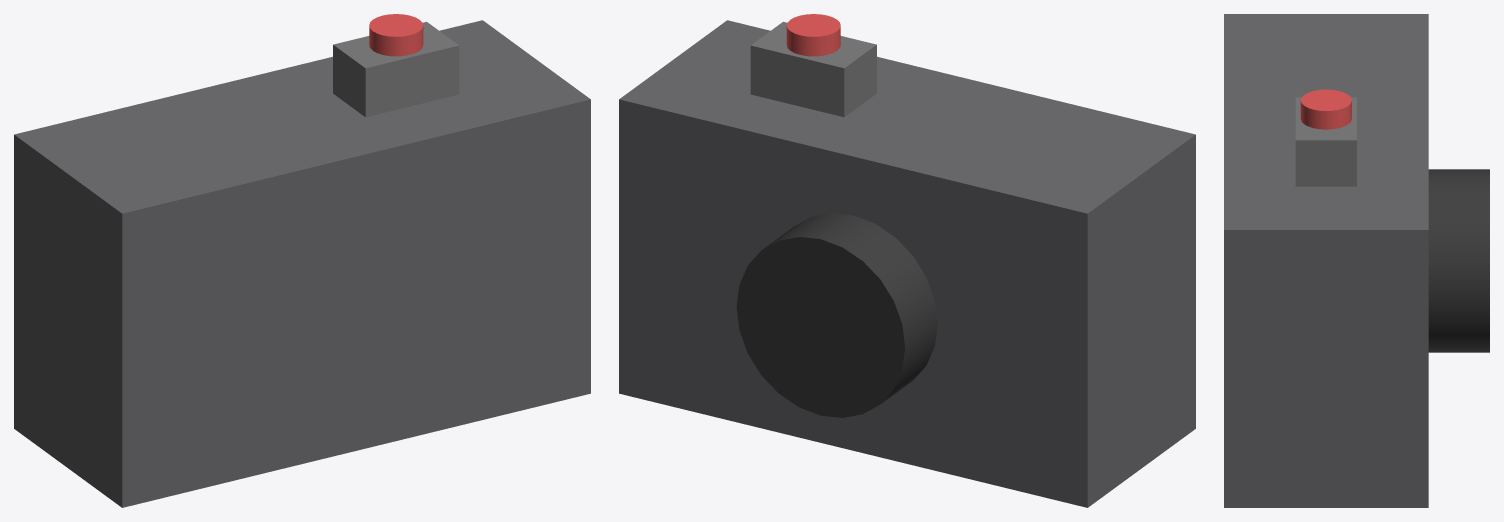
Rendered from camera_body.glb.
3 views of the same model, side by side, from view 1: azimuth 30°, elevation 25°; view 2: azimuth 150°, elevation 25°; view 3: azimuth 270°, elevation 25° (orthographic). The views are drawn at different scales.
Parts seen in each view (by area): view 1: CameraBody, Viewfinder, ShutterButton; view 2: CameraBody, Lens, Viewfinder, ShutterButton; view 3: CameraBody, Lens, Viewfinder, ShutterButton.
Boxes of the visible parts, box(x1,y1,x2,y2) form: CameraBody: box(14, 20, 590, 507); Viewfinder: box(333, 21, 459, 117); ShutterButton: box(369, 14, 423, 56); CameraBody: box(619, 20, 1195, 507); Lens: box(736, 213, 937, 417); Viewfinder: box(750, 21, 876, 117); ShutterButton: box(786, 14, 840, 56); CameraBody: box(1224, 14, 1428, 507); Lens: box(1428, 169, 1489, 352); Viewfinder: box(1295, 97, 1356, 186); ShutterButton: box(1300, 89, 1351, 129).
Size of the model in its own units: 1 by 0.74 by 0.52.
